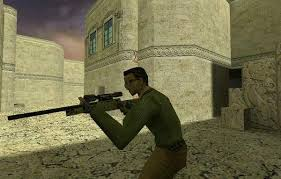gun: (6, 91, 139, 123)
